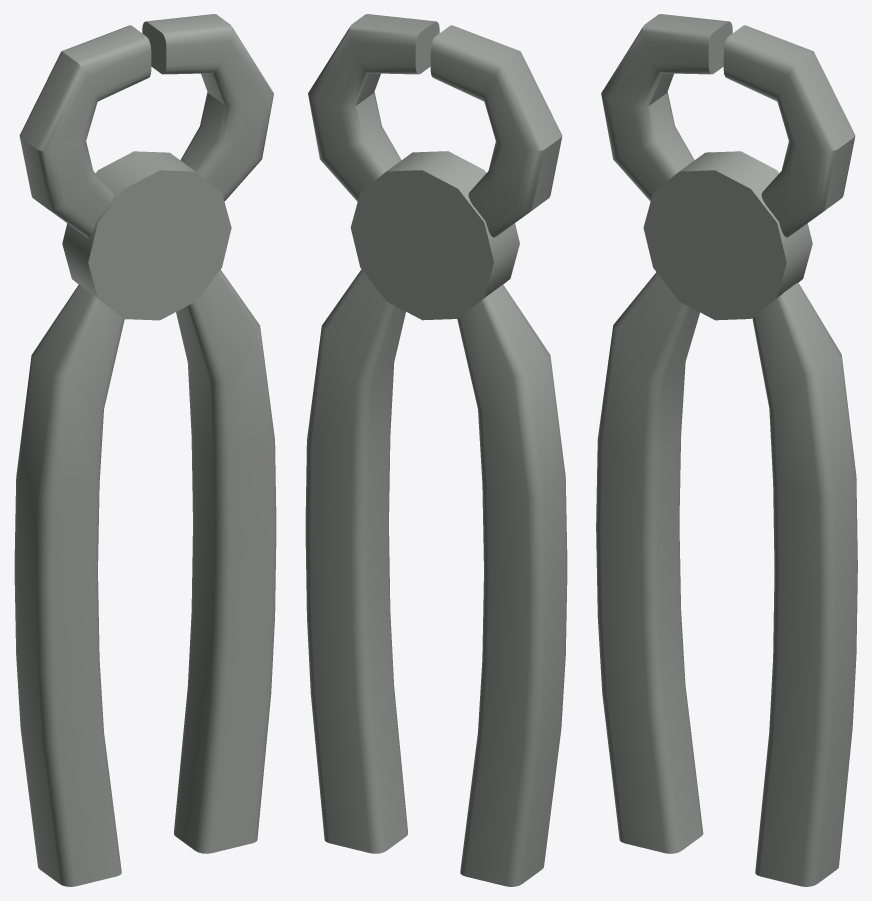
Rendered from forceps.fbx.
3 views of the same model, side by side, from view 1: azimuth 30°, elevation 25°; view 2: azimuth 150°, elevation 25°; view 3: azimuth 330°, elevation 25° (orthographic).
Parts seen in each view (by area): view 1: Plane.001; view 2: Plane.001; view 3: Plane.001.
Part boxes in pixels (x1,y1,x2,y2): Plane.001: (14, 14, 276, 886); Plane.001: (305, 14, 567, 886); Plane.001: (596, 14, 857, 886).
Bounding box in the file's own units: 8.66 × 28.57 × 2.06.
Materials: 1 (1 with a texture image).
